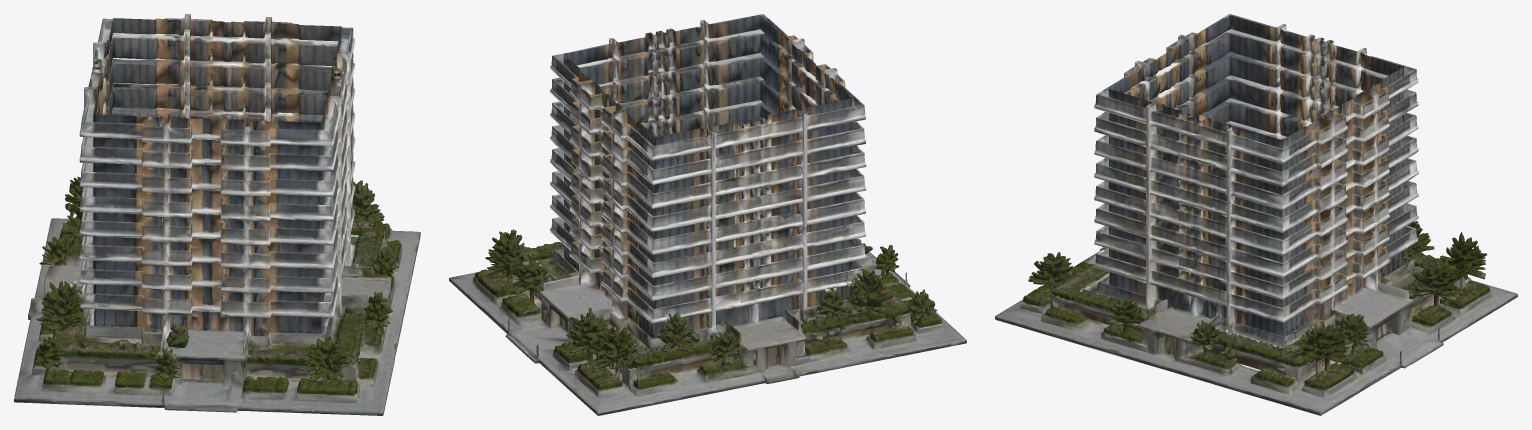
The model's file is building-stage-1.glb.
3 renders of one model, left to right at view 1: azimuth 30°, elevation 25°; view 2: azimuth 150°, elevation 25°; view 3: azimuth 270°, elevation 25°, orthographic. The views are drawn at different scales.
Visible parts, largest first — view 1: stage_1_lower_third, stage_0_ground; view 2: stage_1_lower_third, stage_0_ground; view 3: stage_1_lower_third, stage_0_ground.
Part boxes in pixels (x1,y1,x2,y2): stage_1_lower_third: [35, 14, 398, 390]; stage_0_ground: [14, 218, 420, 415]; stage_1_lower_third: [476, 14, 941, 385]; stage_0_ground: [449, 251, 966, 415]; stage_1_lower_third: [1024, 14, 1488, 386]; stage_0_ground: [995, 251, 1517, 415].
Bounding box in the file's own units: 1.33 × 0.6667 × 1.37.
Materials: 1 (1 with a texture image).
